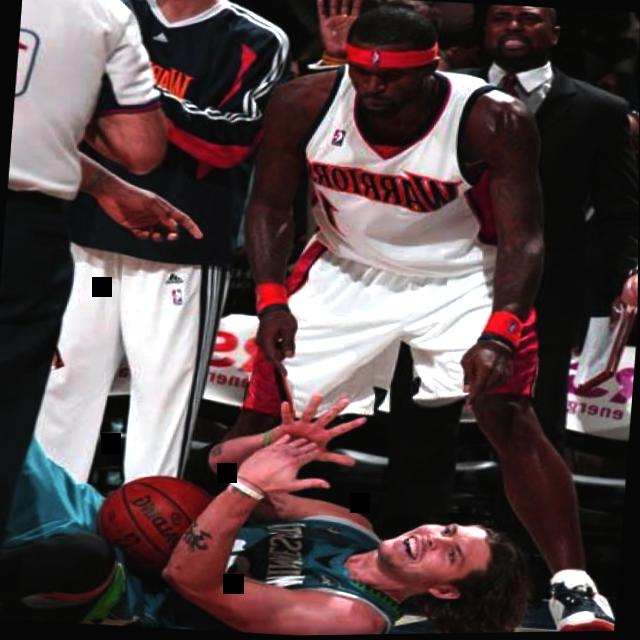Fall-Detected: (50, 387, 566, 639)
